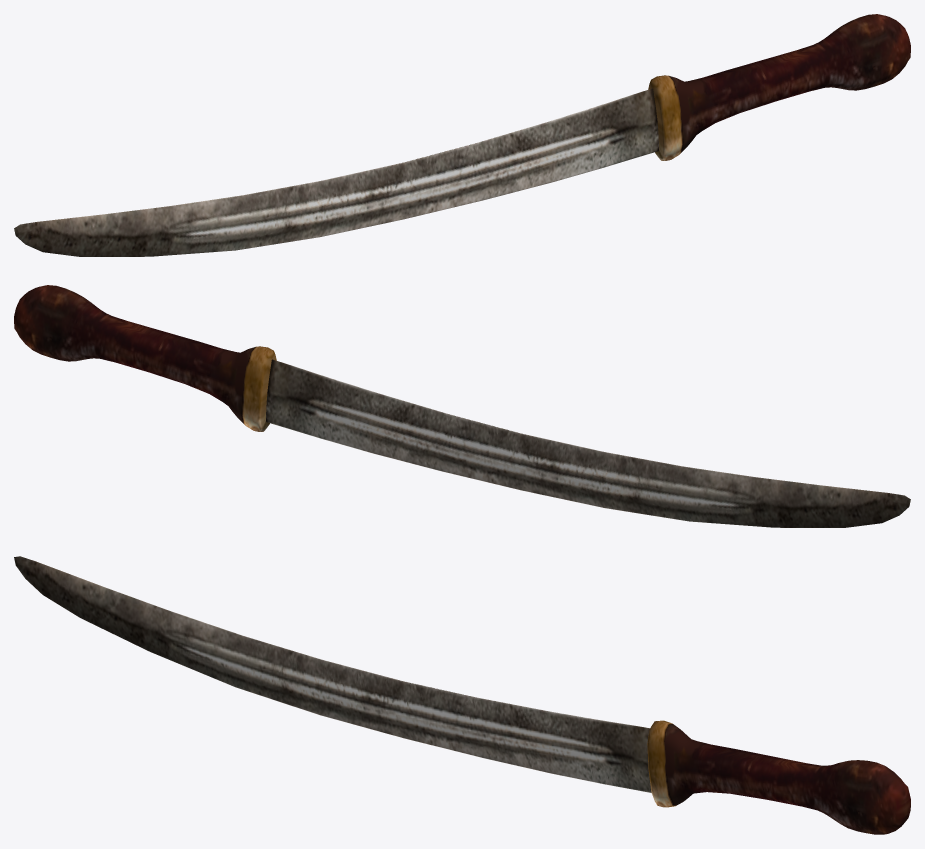
Rendered from Sword.FBX.
3 views of the same model, one above another, from view 1: azimuth 30°, elevation 25°; view 2: azimuth 150°, elevation 25°; view 3: azimuth 330°, elevation 25° (orthographic).
Visible parts, largest first — view 1: Box003; view 2: Box003; view 3: Box003.
Boxes of the visible parts, left/top/right/bottom form: Box003: left=14, top=14, right=910, bottom=256; Box003: left=14, top=285, right=910, bottom=527; Box003: left=14, top=556, right=910, bottom=834.
Size of the model in its own units: 42430 by 4280 by 1574.
